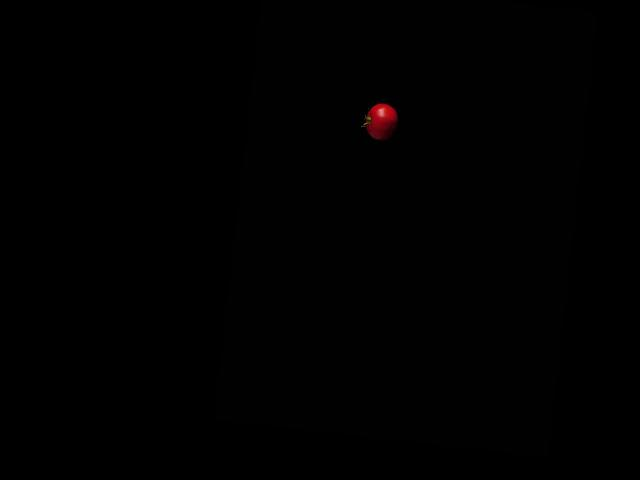tomato: (364, 102, 399, 141)
